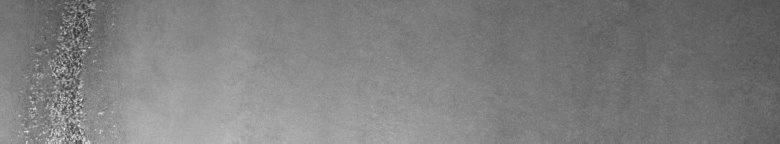hc: (18, 4, 115, 136)
